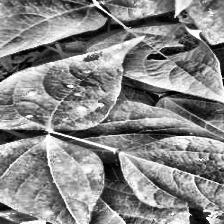Bean Rust: (0, 37, 136, 130), (118, 135, 224, 216), (0, 133, 103, 215), (48, 172, 198, 224), (184, 0, 224, 50)
